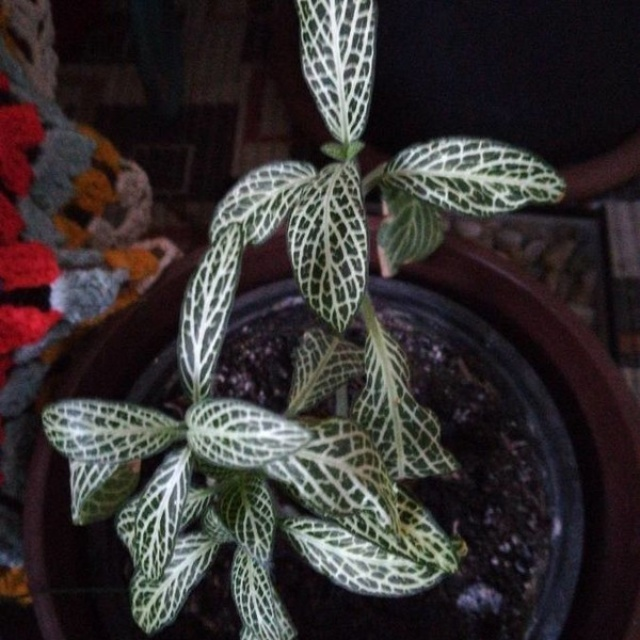obstacle: (59, 19, 580, 607)
